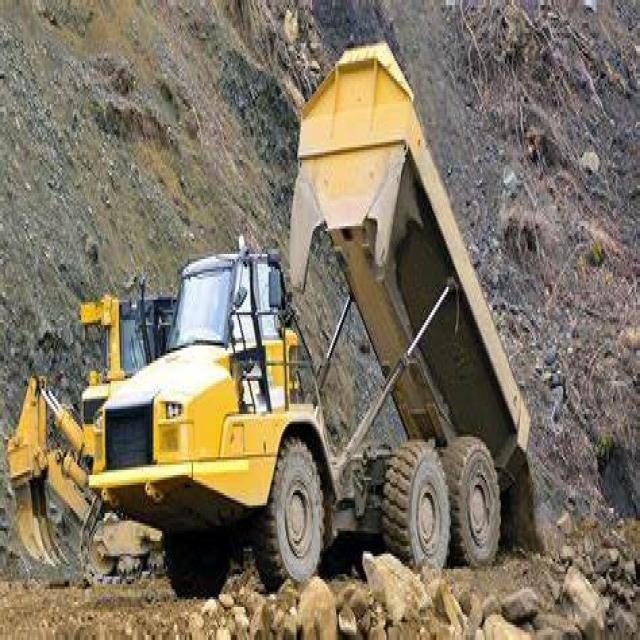dump_truck: (87, 38, 544, 610)
